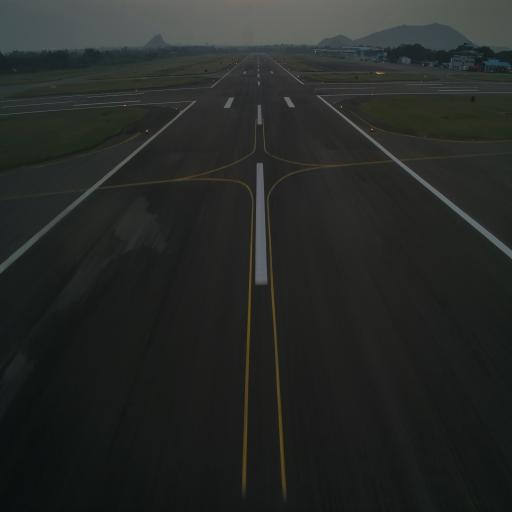on: (370, 126, 374, 133), (145, 127, 149, 134), (340, 104, 344, 110), (175, 106, 178, 112)
